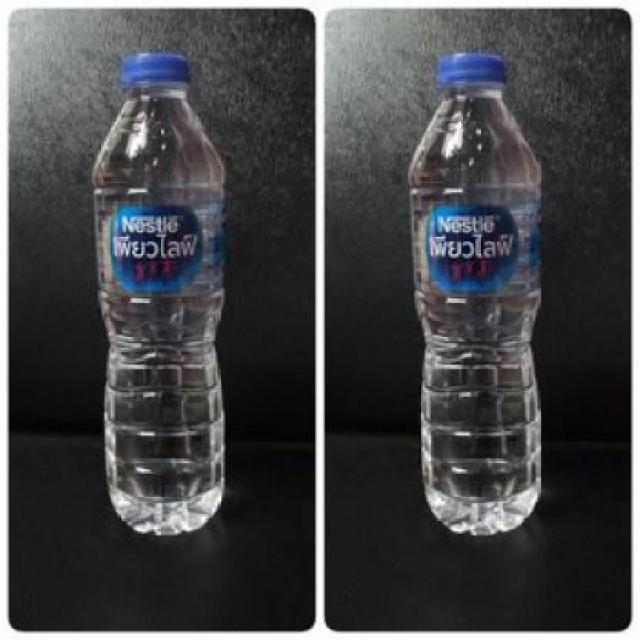bottle: (92, 50, 227, 538), (412, 47, 545, 540)
